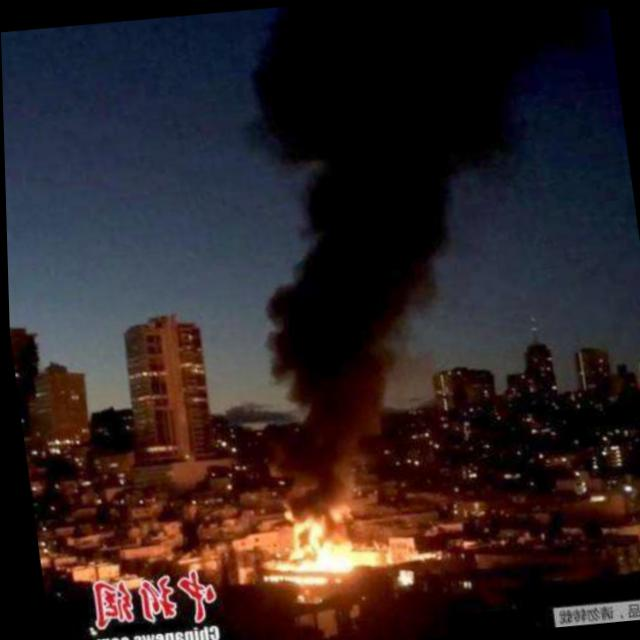fire: (247, 490, 387, 589)
